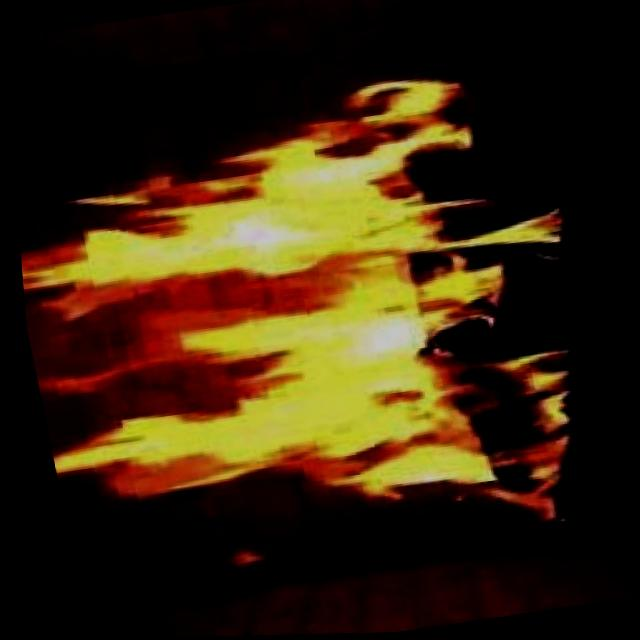Fire: (3, 44, 636, 611)
